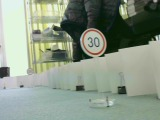speed_30: (79, 28, 107, 57)
